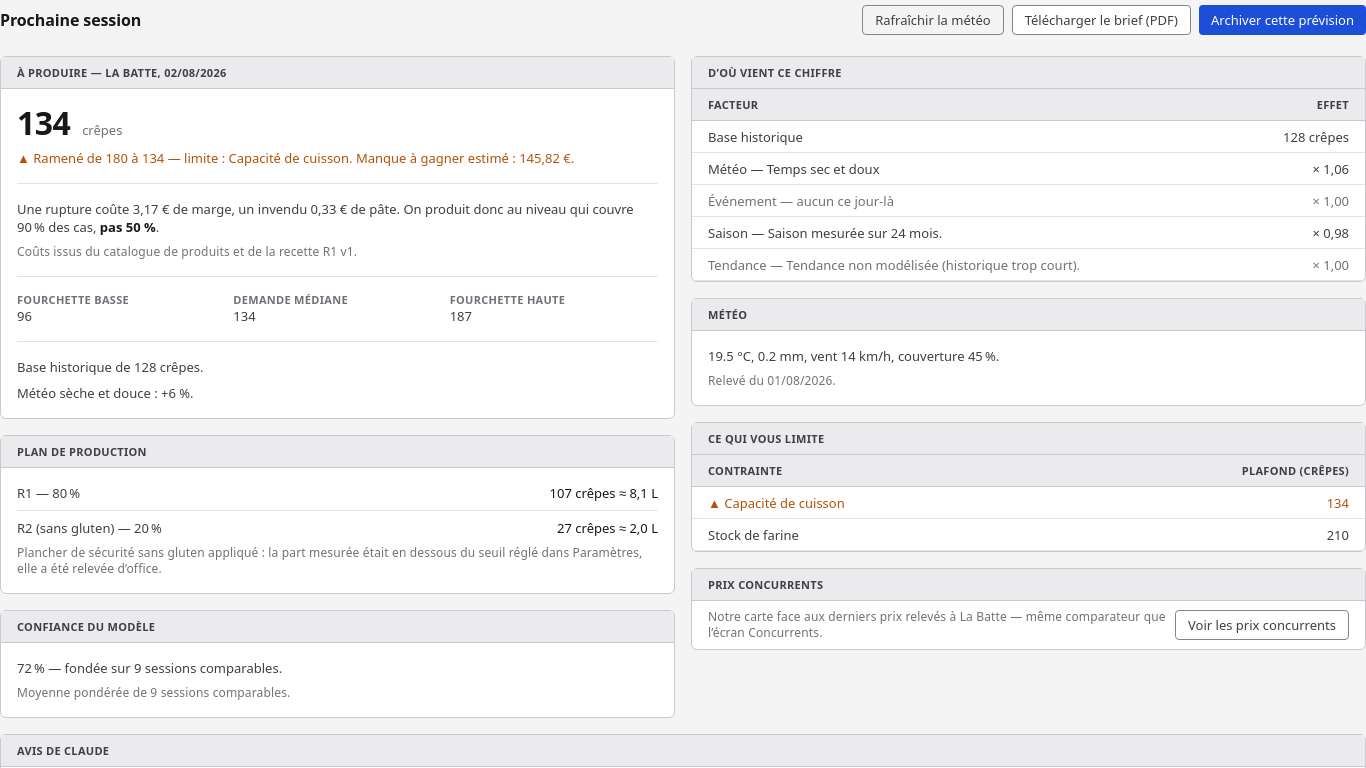
Test case: Prochaine session — archivage › un archivage refusé le dit, et ne prétend jamais avoir réussi
Expected: the heading "À produire — La Batte, 02/08/2026" is shown, [1, 57, 674, 89]
Click the button "Archiver cette prévision" at (1282, 20), box [1199, 5, 1365, 35]
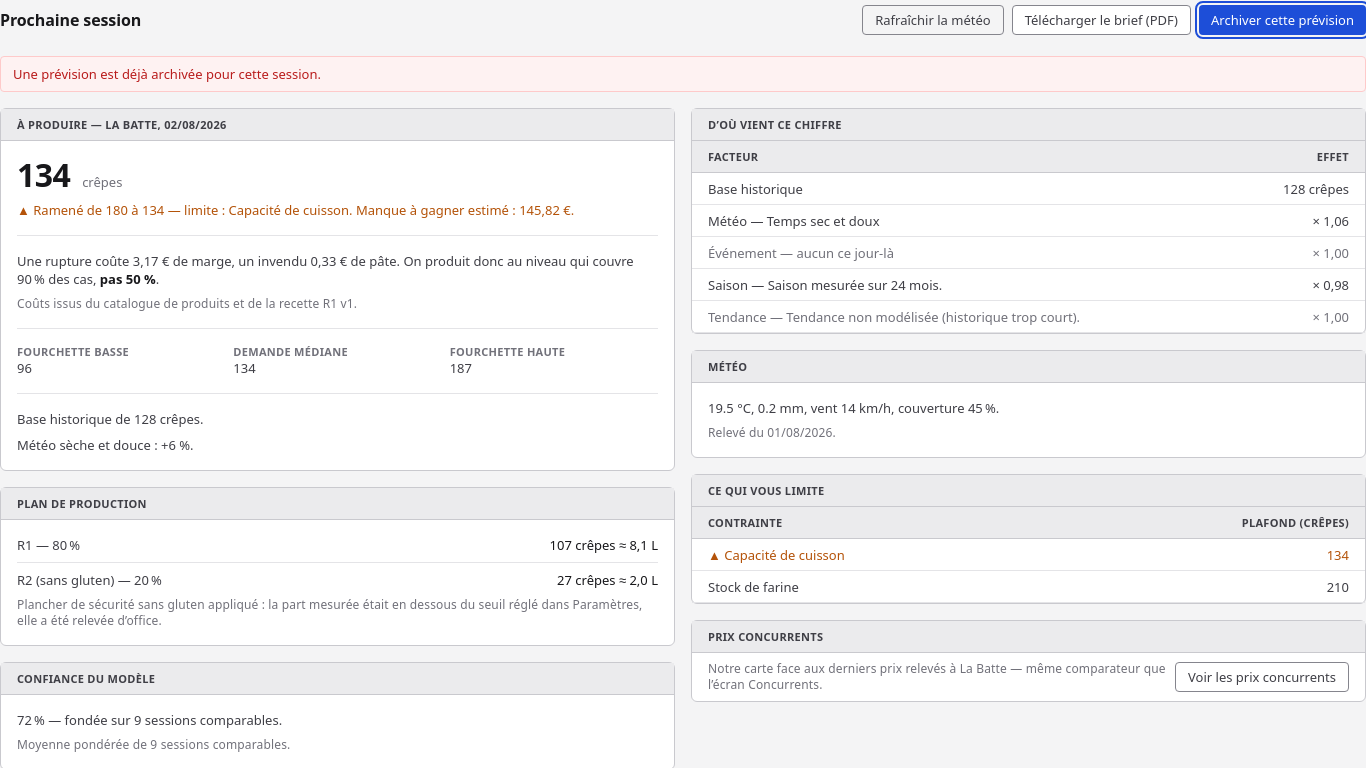
Result: the text "Une prévision est déjà archivée pour cette session." is shown at [0, 56, 1365, 92]
